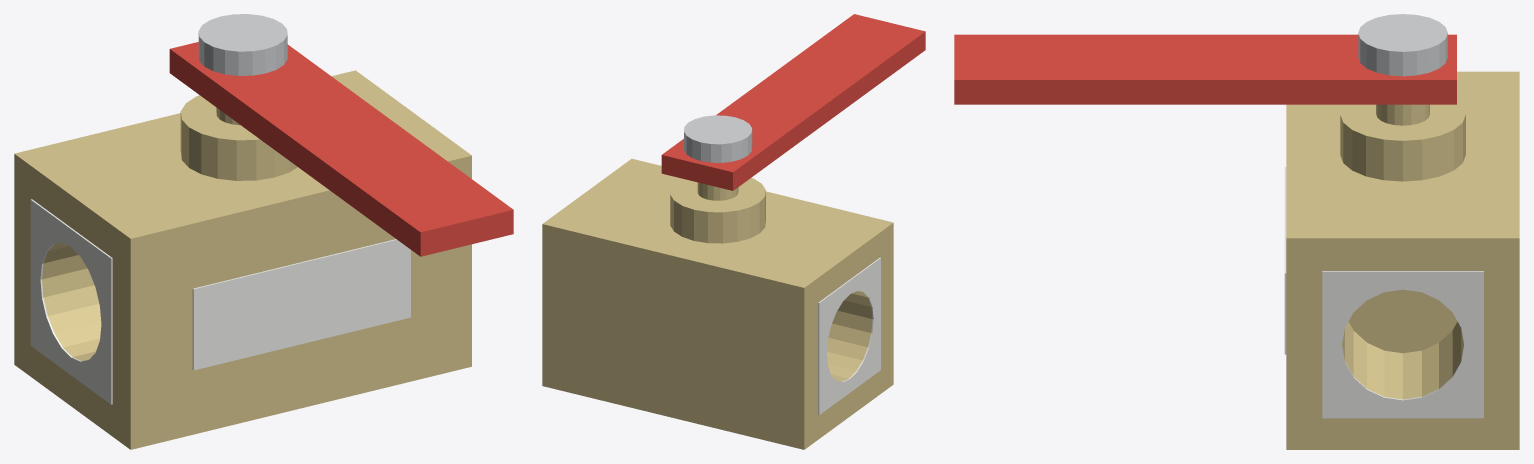
The model's file is valve-air-shutoff.glb.
The picture shows the model from 3 angles, left to right: view 1: azimuth 30°, elevation 25°; view 2: azimuth 150°, elevation 25°; view 3: azimuth 270°, elevation 25°; orthographic projection. The views are drawn at different scales.
Parts seen in each view (by area): view 1: body, lever, port-1; view 2: body, lever, port-1; view 3: body, lever, port-2.
Part boxes in pixels (x1=…): body: x1=14, y1=70, x2=471, y2=449; lever: x1=169, y1=14, x2=513, y2=256; port-1: x1=30, y1=199, x2=112, y2=404; body: x1=542, y1=158, x2=893, y2=449; lever: x1=661, y1=14, x2=925, y2=200; port-1: x1=818, y1=257, x2=880, y2=414; body: x1=1284, y1=71, x2=1519, y2=449; lever: x1=954, y1=14, x2=1456, y2=125; port-2: x1=1322, y1=271, x2=1483, y2=418.
Size of what is drawn, in the model's own units: 0.0444 by 0.041 by 0.063.
